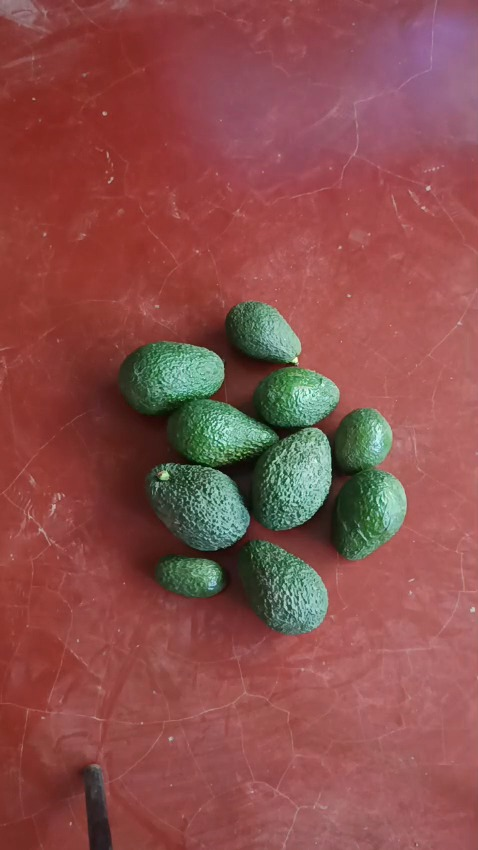Primera: (146, 462, 250, 550), (250, 428, 334, 530), (235, 539, 326, 631), (118, 342, 225, 415), (167, 398, 280, 467)
Segunda: (332, 469, 408, 559), (253, 367, 341, 428)
Tercera: (225, 302, 301, 364), (332, 407, 393, 472), (155, 555, 228, 598)
